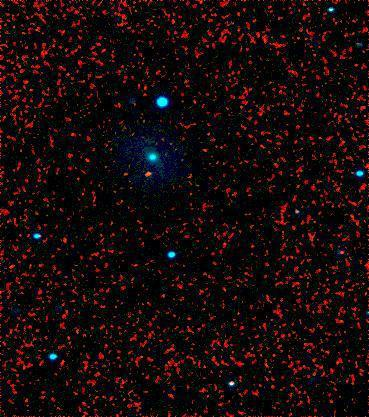star: (138, 162, 168, 192)
